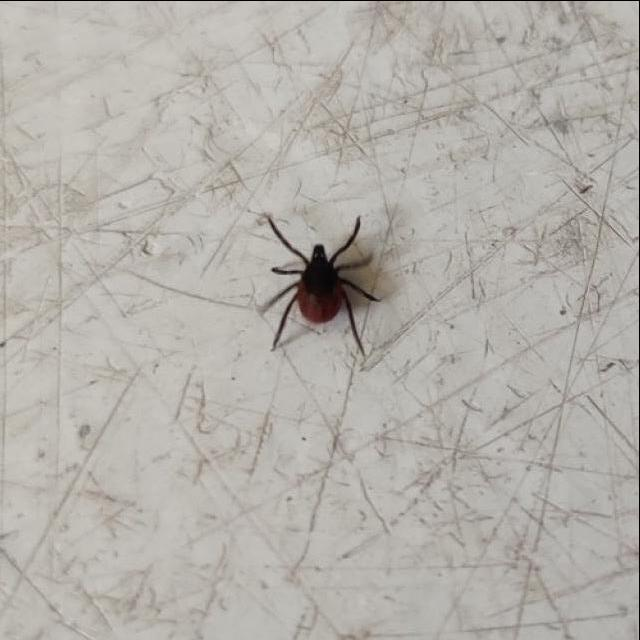Ixodes Ricinus-F: (256, 214, 381, 353)
